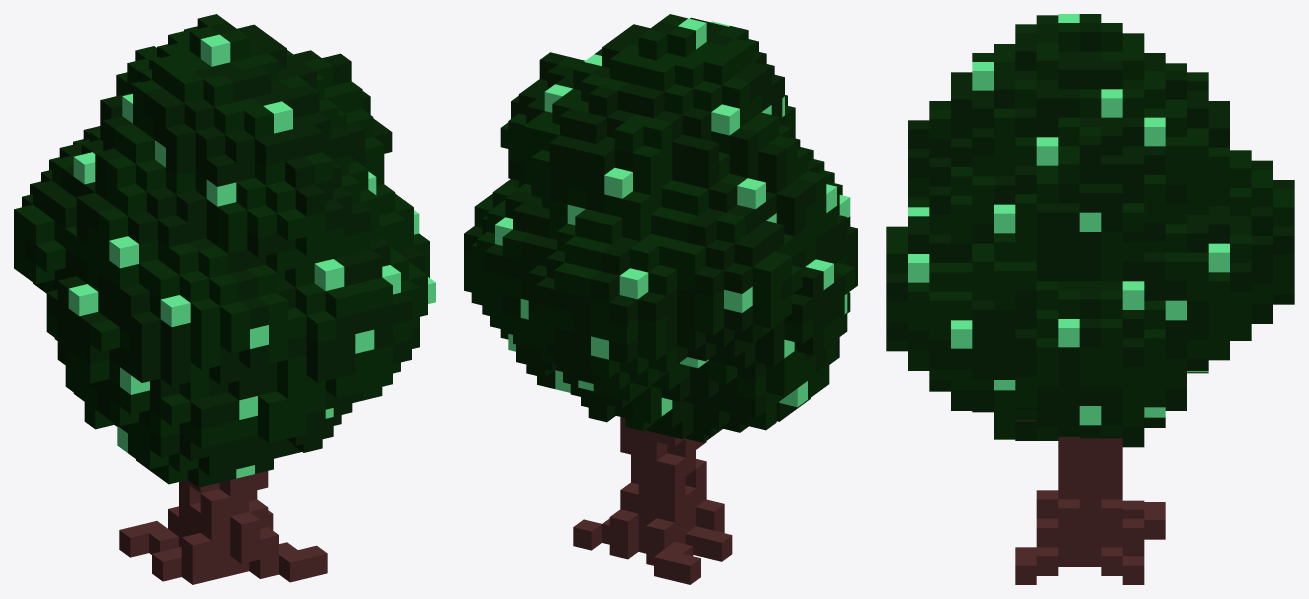
File: tree4.fbx
3 renders of one model, left to right at view 1: azimuth 30°, elevation 25°; view 2: azimuth 150°, elevation 25°; view 3: azimuth 270°, elevation 25°, orthographic. The views are drawn at different scales.
Visible parts, largest first — view 1: tree4; view 2: tree4; view 3: tree4.
Part boxes in pixels (left/top/right/bottom): tree4: left=14, top=14, right=435, bottom=584; tree4: left=464, top=14, right=857, bottom=584; tree4: left=886, top=14, right=1294, bottom=584.
Size of the model in its own units: 89.52 by 134 by 94.49.
Materials: 1 (1 with a texture image).
